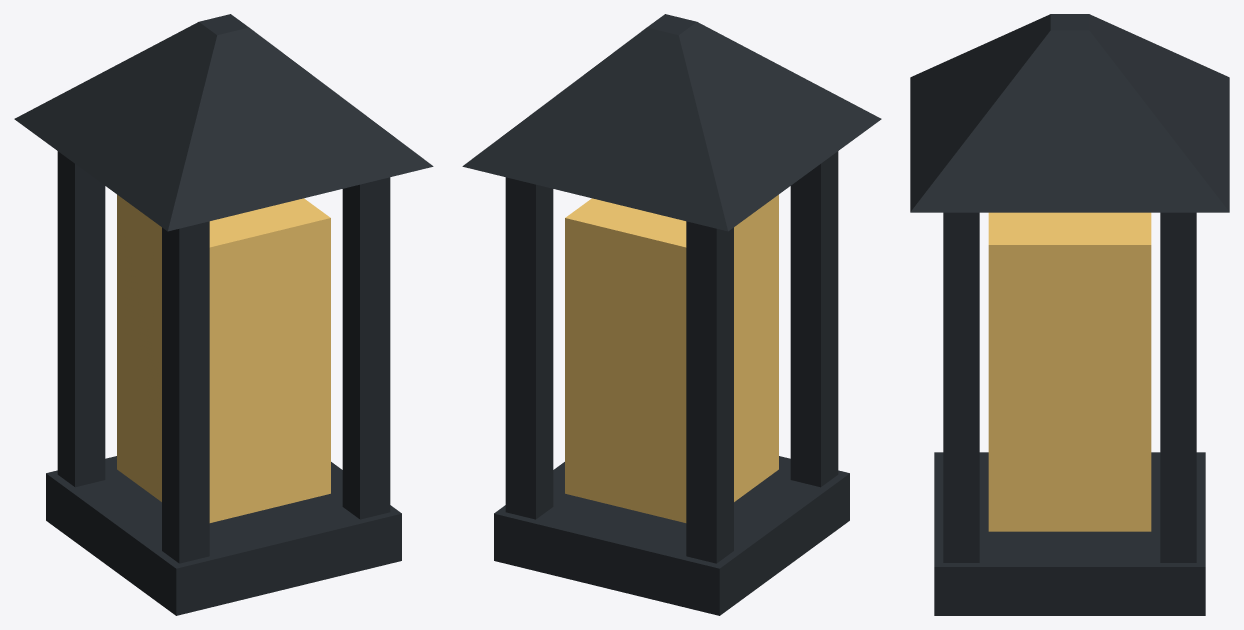
File: patio_garden_lantern.glb
3 renders of one model, left to right at view 1: azimuth 30°, elevation 25°; view 2: azimuth 150°, elevation 25°; view 3: azimuth 270°, elevation 25°, orthographic. The views are drawn at different scales.
Parts seen in each view (by area): view 1: garden_lantern; view 2: garden_lantern; view 3: garden_lantern.
Boxes of the visible parts, x1,y1,x2,y2 form: garden_lantern: (14,14,433,615); garden_lantern: (462,14,881,615); garden_lantern: (910,14,1229,615).
Bounding box in the file's own units: 0.3536 × 0.655 × 0.3536.
